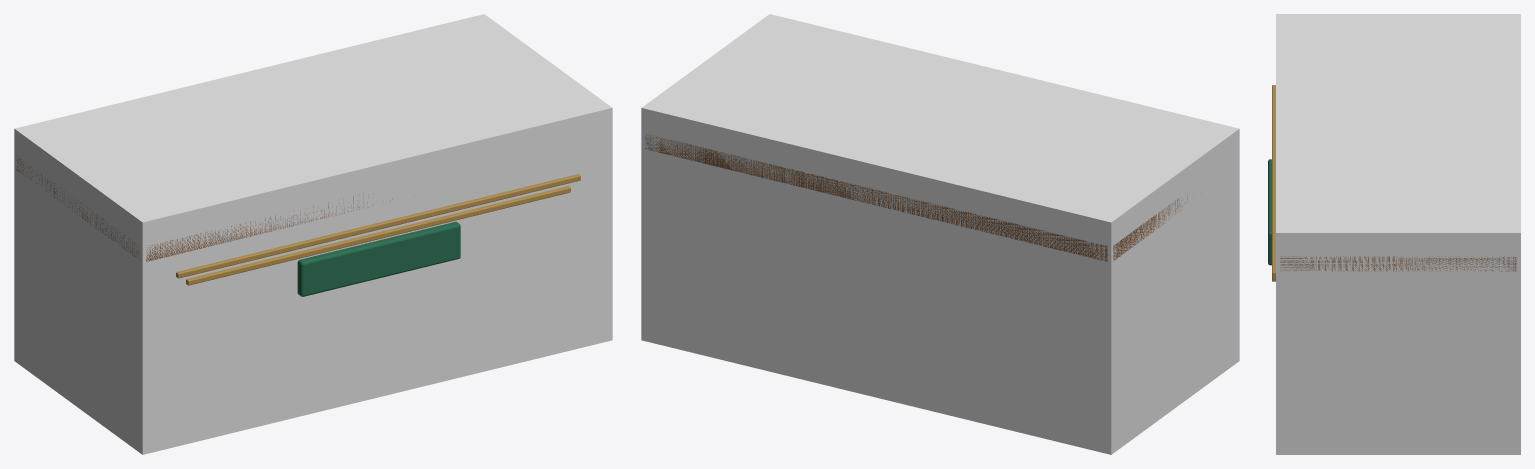
File: office-desk_luxury.glb
3 views of the same model, side by side, from view 1: azimuth 30°, elevation 25°; view 2: azimuth 150°, elevation 25°; view 3: azimuth 270°, elevation 25° (orthographic). The views are drawn at different scales.
Parts seen in each view (by area): view 1: COL_office-desk, MESH_ServiceScreen, MESH_TierTrim_01, MESH_TierTrim_02, MESH_Worktop; view 2: COL_office-desk, MESH_Worktop; view 3: COL_office-desk, MESH_Worktop, MESH_TierTrim_01, MESH_ServiceScreen.
Boxes of the visible parts, x1,y1,x2,y2 form: COL_office-desk: (14,14,612,454); MESH_ServiceScreen: (297,221,460,296); MESH_TierTrim_01: (176,174,580,278); MESH_TierTrim_02: (186,186,570,285); MESH_Worktop: (16,155,392,261); COL_office-desk: (641,14,1239,454); MESH_Worktop: (645,133,1187,261); COL_office-desk: (1276,14,1520,454); MESH_Worktop: (1280,256,1516,271); MESH_TierTrim_01: (1272,85,1275,277); MESH_ServiceScreen: (1268,159,1271,265).
Bounding box in the file's own units: 1.65 × 0.78 × 0.8053.
